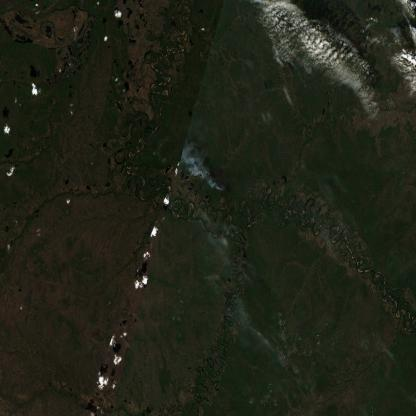fire: (201, 165, 229, 196)
